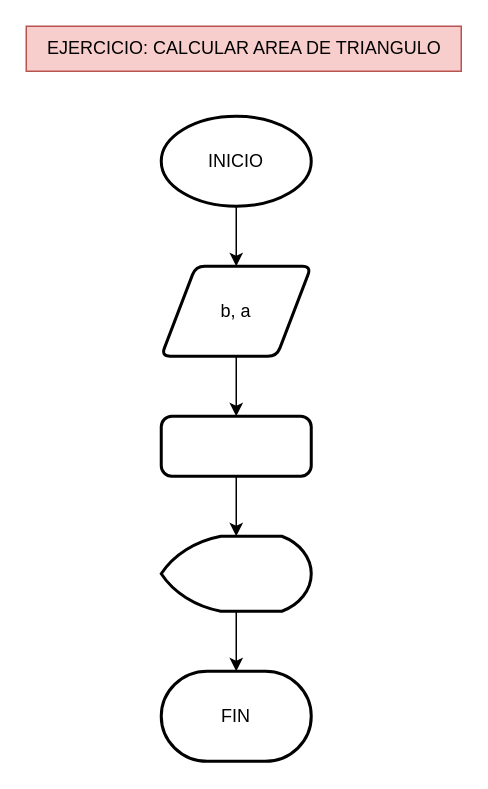
The diagram is 488 pixels wide and 789 high, and some of its shapes have lost their labels. The box of each missing label's shape, as (x1, y1, x2, y2) in pixels:
area: (159, 534, 312, 612)
area = (bxa)/2: (159, 414, 312, 477)
